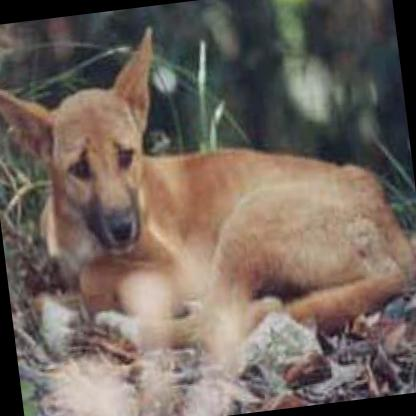dingo: (0, 0, 416, 367)
